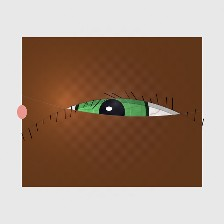hemorrhage_spot: (78, 98, 155, 159)
